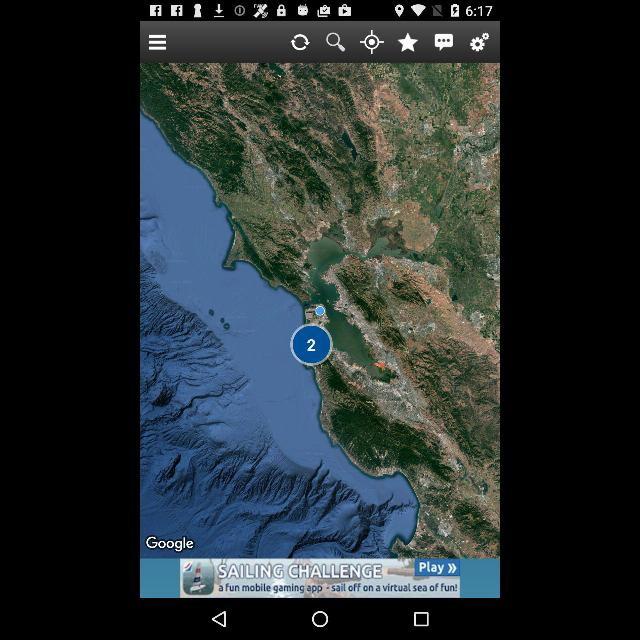icon: (358, 30, 384, 54), (326, 32, 346, 52), (398, 33, 418, 53), (469, 32, 489, 52), (289, 34, 311, 52), (434, 33, 454, 51), (311, 610, 329, 628), (209, 612, 227, 628), (149, 34, 166, 50), (414, 612, 430, 626)
iframe: (180, 560, 462, 596)
map: (140, 65, 500, 558)
panel: (140, 598, 500, 640), (141, 22, 499, 63)
uppertaskbar: (140, 0, 500, 22)
